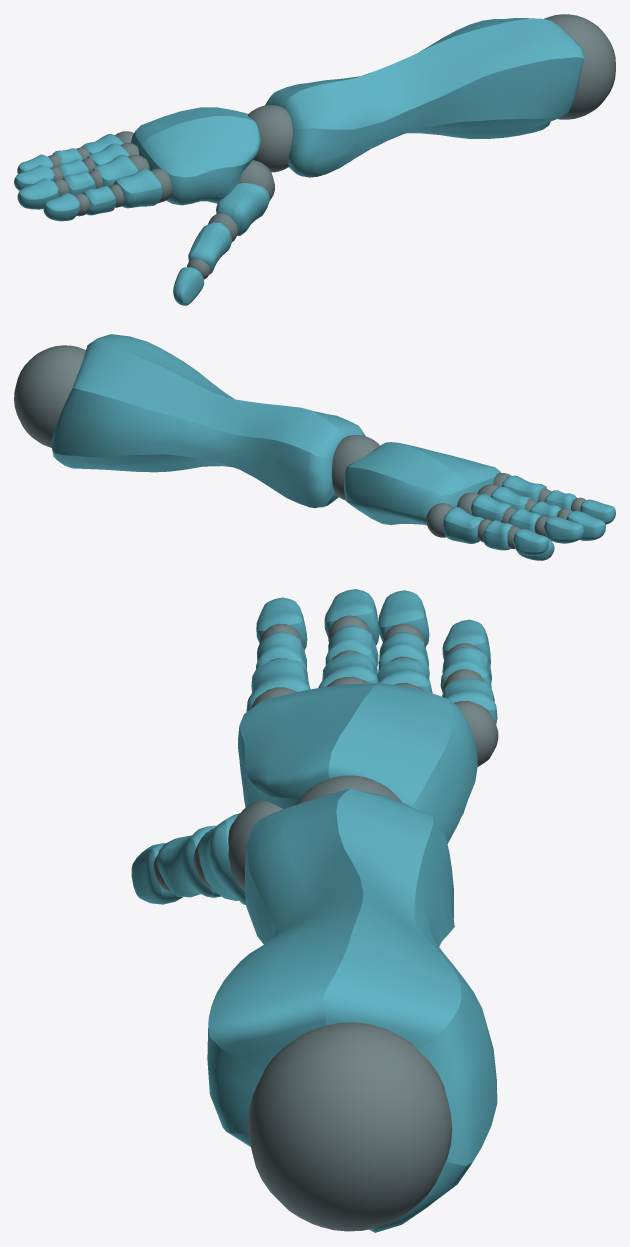
File: forearm.r.gltf
3 renders of one model, top to bottom at view 1: azimuth 30°, elevation 25°; view 2: azimuth 150°, elevation 25°; view 3: azimuth 270°, elevation 25°, orthographic. The views are drawn at different scales.
Visible parts, largest first — view 1: forearm.r; view 2: forearm.r; view 3: forearm.r.
Part boxes in pixels (box(x1,y1,x2,y2)): forearm.r: box(14, 14, 615, 305); forearm.r: box(14, 334, 615, 560); forearm.r: box(131, 589, 498, 1232).
Size of the model in its own units: 1.11 by 0.2791 by 0.3011.
